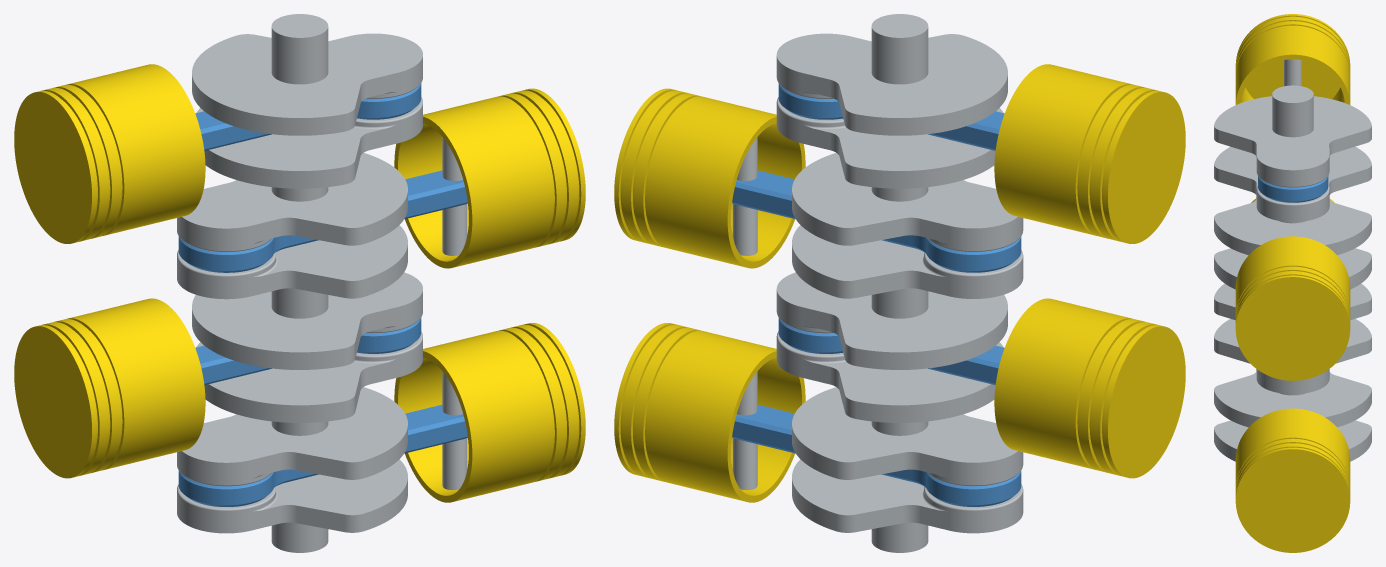
File: boxer_engine.glb
3 views of the same model, side by side, from view 1: azimuth 30°, elevation 25°; view 2: azimuth 150°, elevation 25°; view 3: azimuth 270°, elevation 25° (orthographic). The views are drawn at different scales.
Parts seen in each view (by area): view 1: pistonhead (×4), crankshaft, rod (×4); view 2: pistonhead (×4), crankshaft, rod (×4); view 3: pistonhead (×3), crankshaft, rod.
Part boxes in pixels (<box>): pistonhead (×4): <box>14,64,585,502</box>; crankshaft: <box>177,14,422,552</box>; rod (×4): <box>178,83,467,506</box>; pistonhead (×4): <box>614,64,1185,502</box>; crankshaft: <box>776,14,1023,552</box>; rod (×4): <box>732,83,1021,506</box>; pistonhead (×3): <box>1235,14,1350,552</box>; crankshaft: <box>1214,85,1371,461</box>; rod: <box>1258,176,1328,202</box>.
Bounding box in the file's own units: 0.644 × 0.642 × 0.2429.
